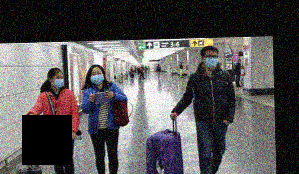with_mask: (203, 52, 219, 68), (90, 69, 105, 85), (51, 73, 65, 88), (239, 59, 242, 64), (157, 63, 160, 66), (137, 65, 140, 68), (138, 65, 140, 68), (131, 66, 132, 69), (148, 64, 149, 67), (145, 64, 146, 66)
without_mask: (181, 61, 183, 64)
